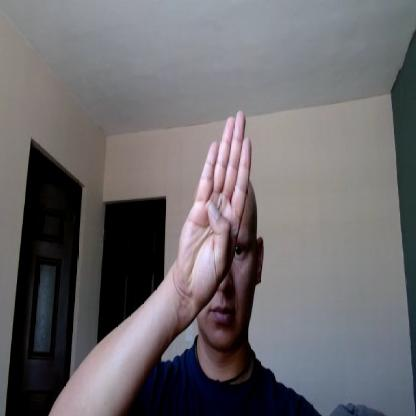B: (178, 112, 252, 302)
